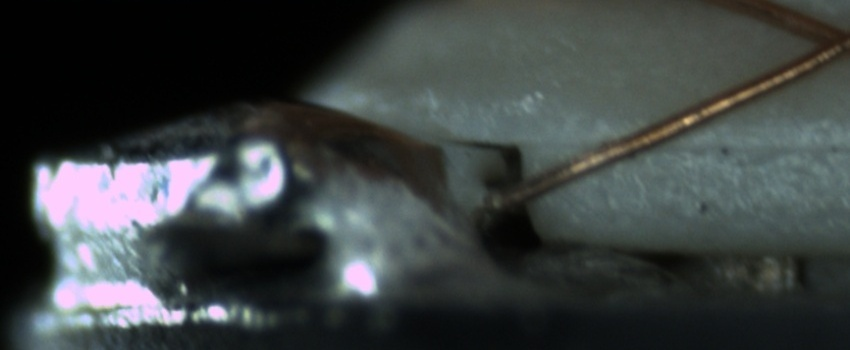CL: (791, 8, 849, 66)
DL: (572, 112, 846, 177)
